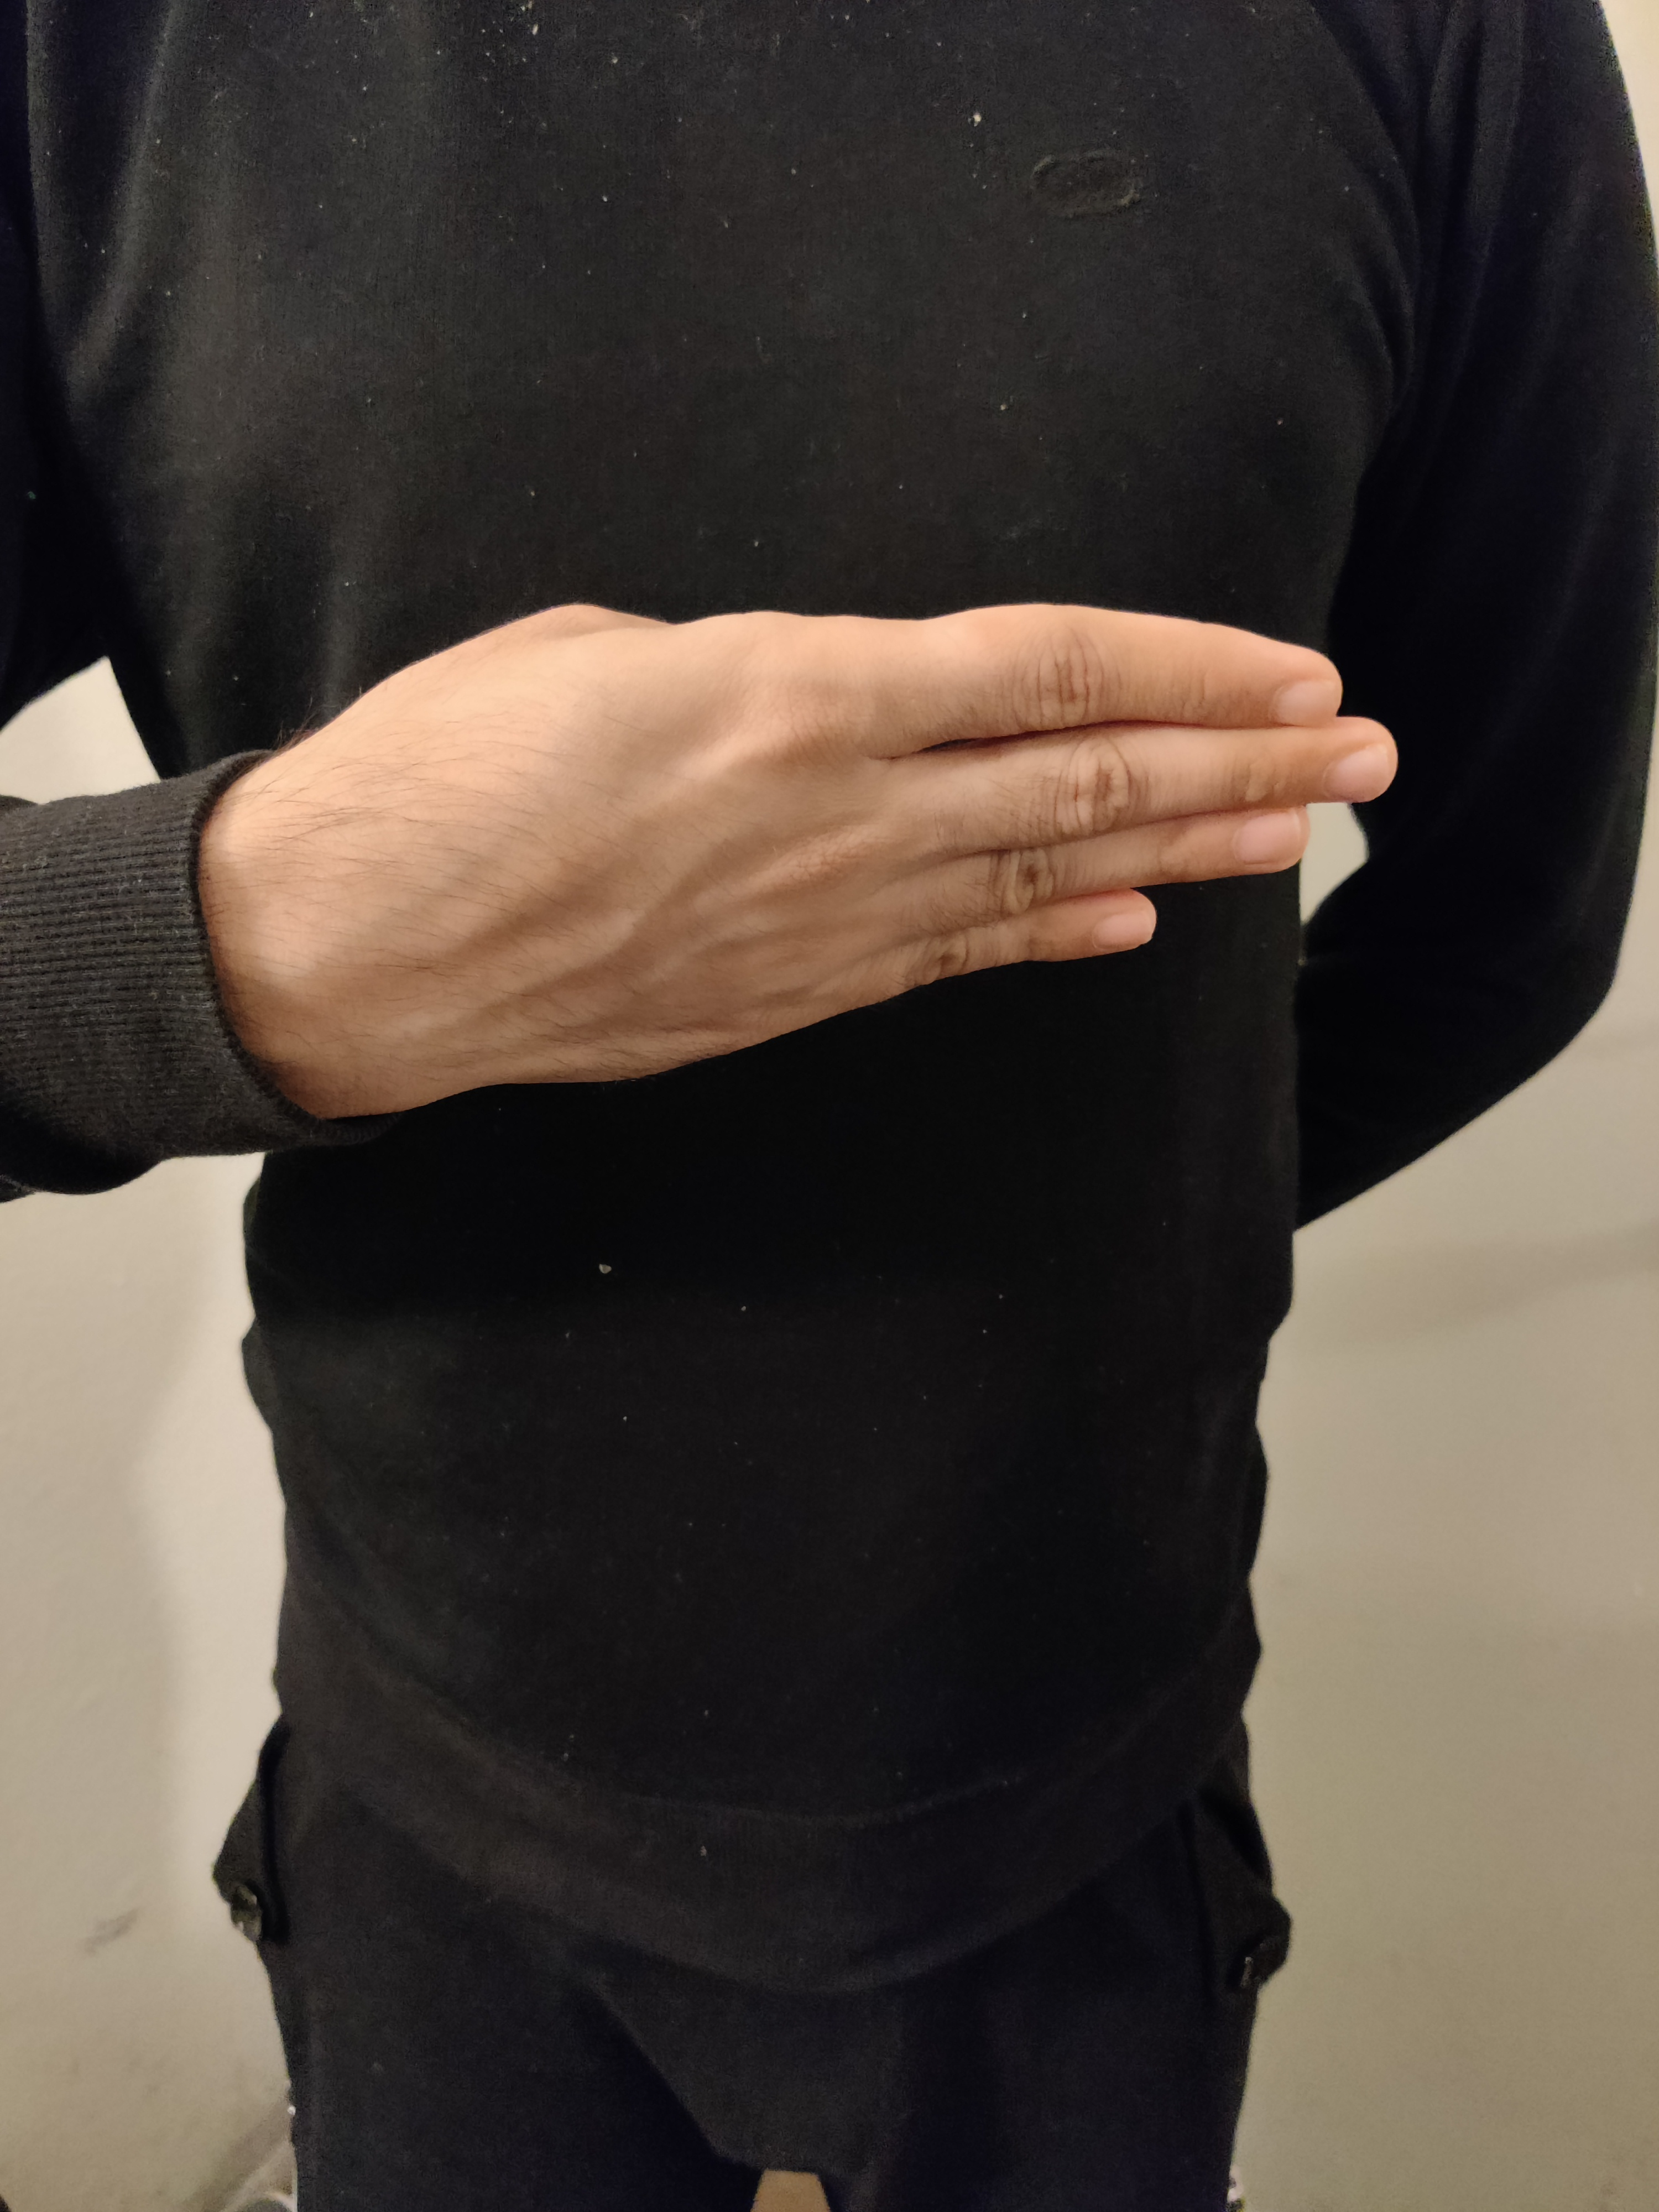left: (42, 385, 1511, 1332)
